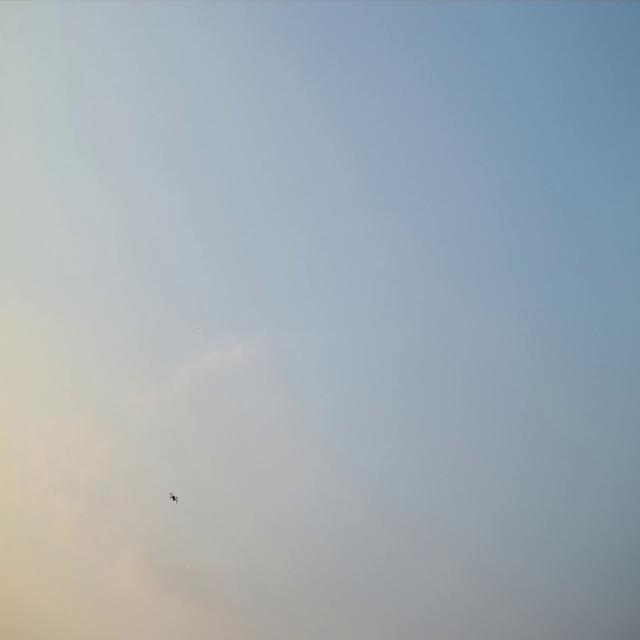UAV: (171, 494, 177, 502)
